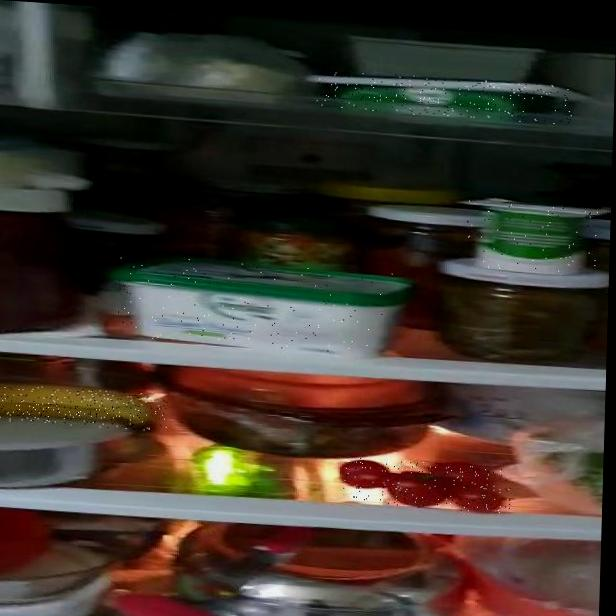banana: (0, 383, 168, 432)
cheese: (116, 254, 394, 356)
cream cheese: (315, 69, 575, 125)
tomato: (343, 457, 511, 514)
yoghurt: (466, 196, 601, 276)
